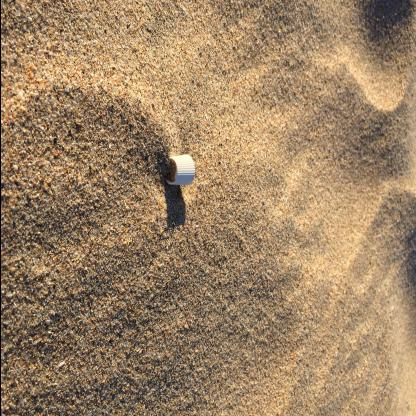plastik: (165, 154, 194, 186)
